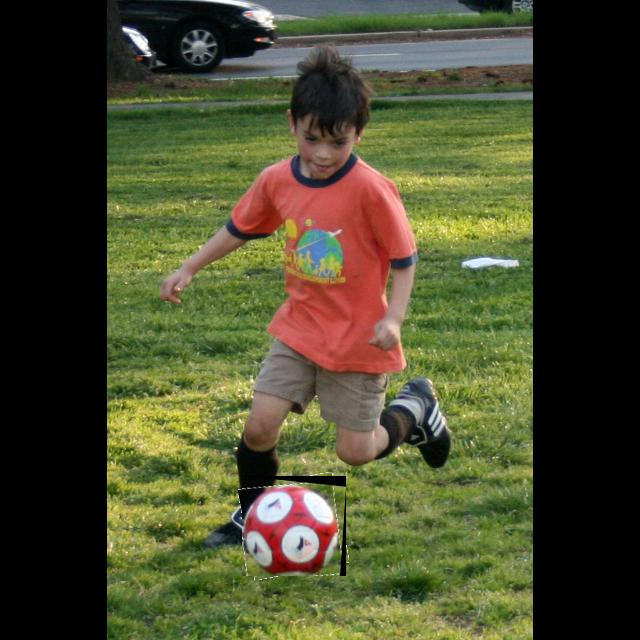Football: (242, 476, 346, 576)
